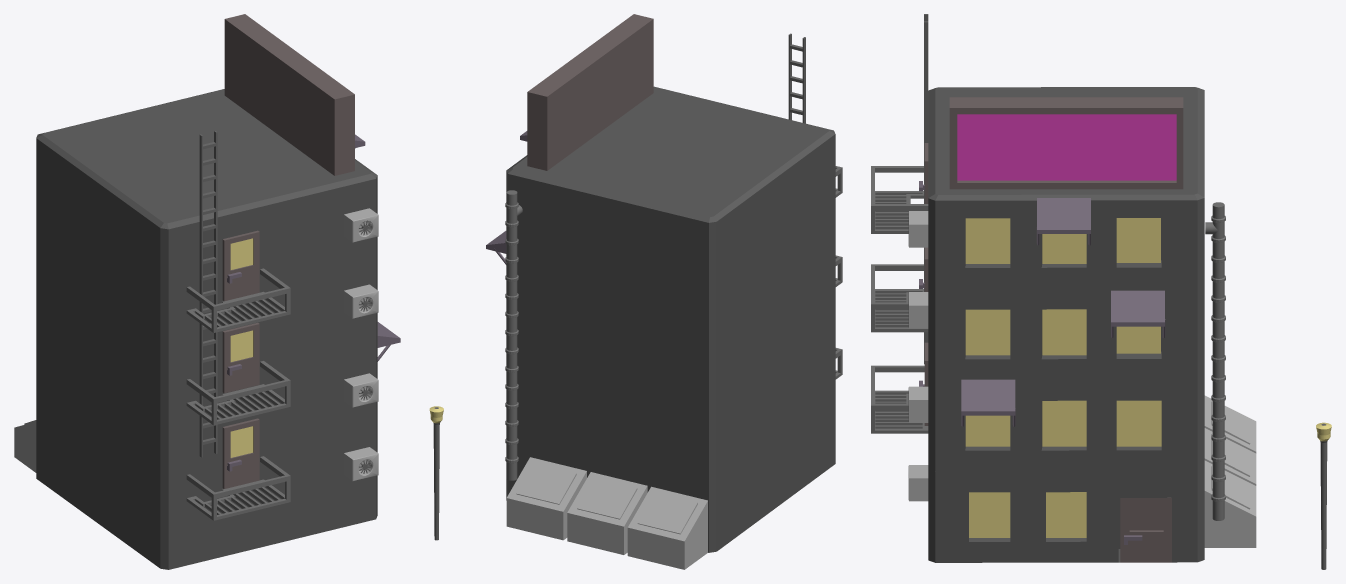
File: отель.fbx
The picture shows the model from 3 angles, left to right: view 1: azimuth 30°, elevation 25°; view 2: azimuth 150°, elevation 25°; view 3: azimuth 270°, elevation 25°; orthographic projection. The views are drawn at different scales.
Parts seen in each view (by area): view 1: Plane.004, Cube, Cube.027, Cube.021, Ladder, Plane.001, Plane.003, Plane.002, Cube.035, Cube.015; view 2: Plane.004, Cube, Cube.015, Cube.016, Cube.017, Cylinder.013, Ladder, Cylinder.004; view 3: Plane.004, Cube, Cube.044, Cylinder.013, Cube.016, Cube.041, Cube.021, Plane.003, Plane.001, Plane.002, Cylinder.005, Cylinder.008 (+6 smaller).
Boxes of the visible parts, x1,y1,x2,y2 form: Plane.004: (36, 89, 377, 569); Cube: (224, 14, 354, 175); Cube.027: (222, 230, 259, 488); Cube.021: (343, 208, 378, 481); Ladder: (199, 131, 217, 457); Plane.001: (186, 268, 290, 332); Plane.003: (186, 456, 290, 520); Plane.002: (186, 361, 290, 425); Cube.035: (230, 238, 253, 457); Cube.015: (14, 420, 36, 472); Plane.004: (506, 86, 835, 552); Cube: (527, 14, 653, 170); Cube.015: (627, 486, 707, 569); Cube.016: (506, 457, 586, 540); Cube.017: (567, 472, 647, 554); Cylinder.013: (505, 190, 522, 480); Ladder: (788, 33, 805, 123); Cylinder.004: (429, 406, 443, 540); Plane.004: (928, 87, 1204, 562); Cube: (949, 97, 1183, 189); Cube.044: (965, 218, 1161, 537); Cylinder.013: (1205, 202, 1225, 520); Cube.016: (1204, 460, 1256, 547); Cube.041: (1120, 497, 1171, 562); Cube.021: (908, 211, 928, 501); Plane.003: (871, 365, 928, 433); Plane.001: (871, 166, 928, 233); Plane.002: (871, 264, 928, 332); Cylinder.005: (961, 379, 1015, 426); Cylinder.008: (1111, 290, 1165, 338).
Bounding box in the file's own units: 31.91 × 51.49 × 47.26.
